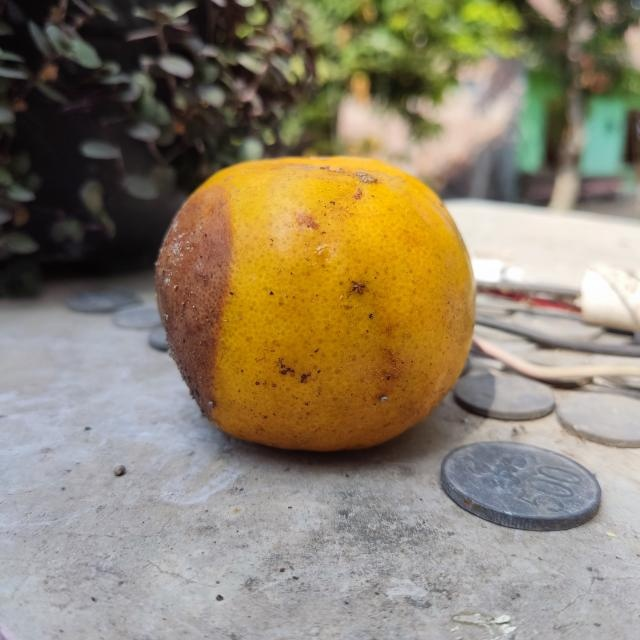agrume: (147, 153, 477, 448)
